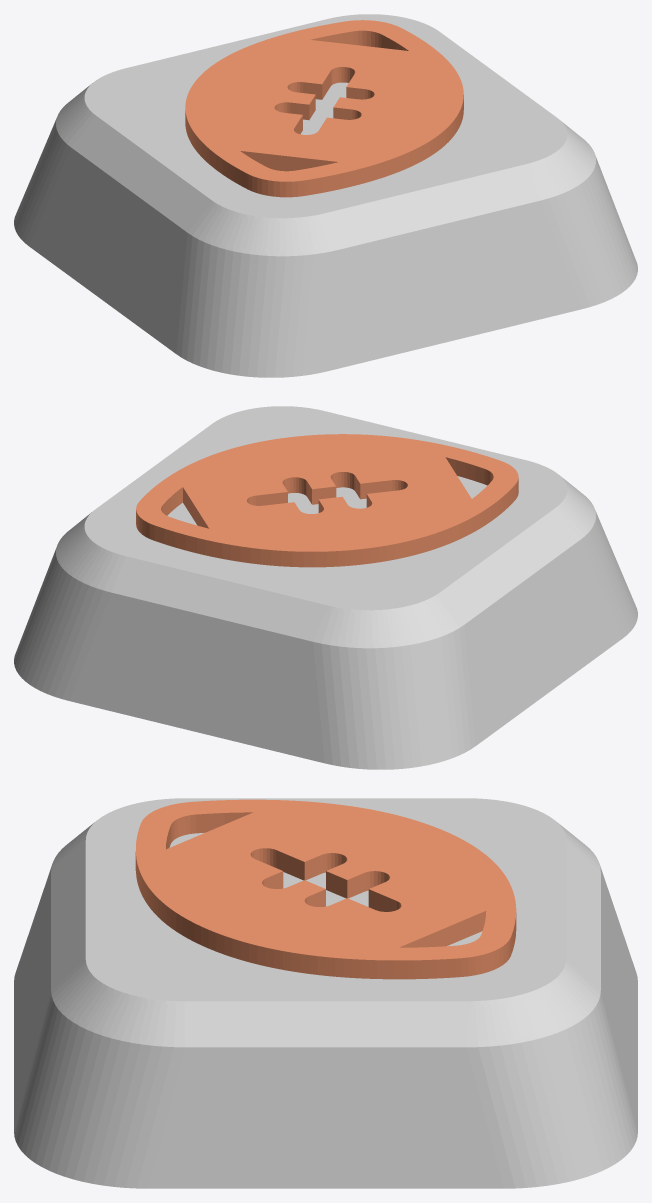
The model's file is cap-rugby.glb.
The picture shows the model from 3 angles, top to bottom: view 1: azimuth 30°, elevation 25°; view 2: azimuth 150°, elevation 25°; view 3: azimuth 270°, elevation 25°; orthographic projection. The views are drawn at different scales.
Visible parts, largest first — view 1: cap_1, glyph_0; view 2: cap_1, glyph_0; view 3: cap_1, glyph_0.
Part boxes in pixels (x1,y1,x2,y2): cap_1: (14, 14, 637, 377); glyph_0: (185, 20, 463, 197); cap_1: (14, 406, 637, 769); glyph_0: (136, 434, 518, 567); cap_1: (14, 798, 637, 1188); glyph_0: (135, 799, 516, 979).
Bounding box in the file's own units: 18 × 5.6 × 18.
